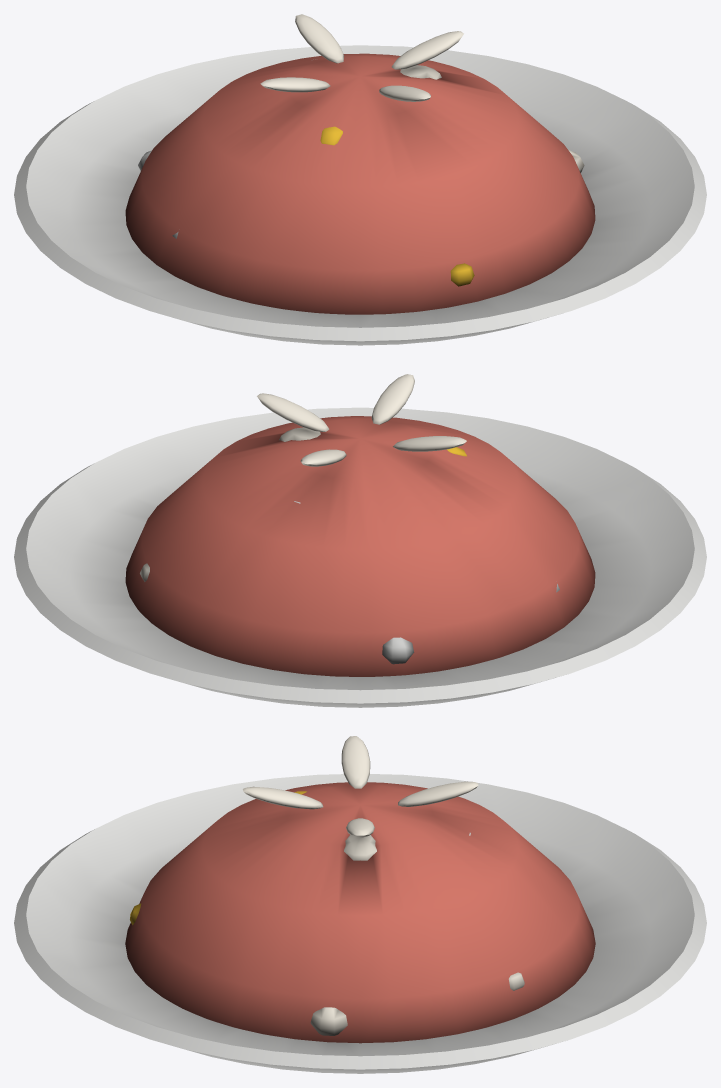
Rendered from meal_friedrice.glb.
The picture shows the model from 3 angles, top to bottom: view 1: azimuth 30°, elevation 25°; view 2: azimuth 150°, elevation 25°; view 3: azimuth 270°, elevation 25°; orthographic projection.
Parts seen in each view (by area): view 1: PART; view 2: PART; view 3: PART.
Boxes of the visible parts, x1,y1,x2,y2 form: PART: (14, 14, 706, 345); PART: (14, 374, 706, 707); PART: (14, 736, 706, 1073).
Bounding box in the file's own units: 0.301 × 0.0902 × 0.301.
